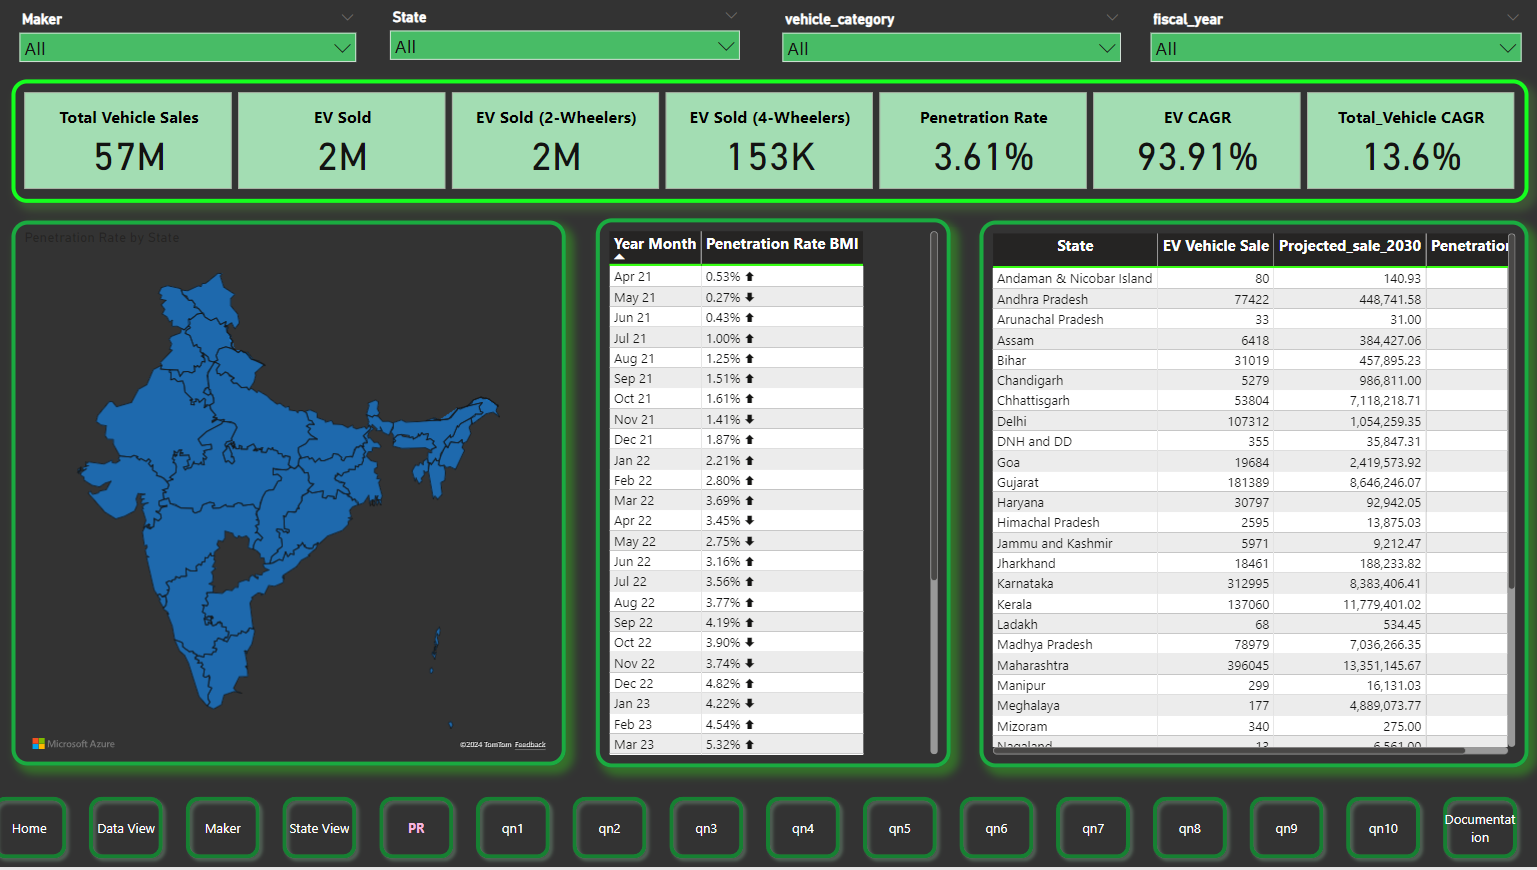

Layout of this report page (visuals, bound fields, positions):
{"tool":"powerbi","page":{"name":"PR","canvas":[1920,1080],"ordinal":4},"visuals":[{"type":"cardVisual","fields":{"Data":["KeyMeasures.Total Vehicle Sales","KeyMeasures.EV_vehicle_sold_state","KeyMeasures.EV_sold for 2-Wheelers(State)","KeyMeasures.EV_sold for 4-Wheelers(State)","KeyMeasures.Penetration Rate","KeyMeasures.CAGR_state_All","KeyMeasures.CAGR_state_Total_Vehicle"]},"box":[32.6,111.2,1866.6,151.9],"z":0},{"type":"slicer","fields":{"Values":["dim_date.fiscal_year"]},"box":[1423,21.5,476.4,83],"z":1000},{"type":"slicer","fields":{"Values":["dim_vechicle.vehicle_category"]},"box":[971.2,21.5,436.4,83],"z":2000},{"type":"slicer","fields":{"Values":["dim_makers.Maker"]},"box":[32.6,21.7,434.1,84.1],"z":9000},{"type":"slicer","fields":{"Values":["dim_state.State"]},"box":[488.4,19,450.4,84.1],"z":10000},{"type":"azureMap","fields":{"Category":["dim_state.State"]},"box":[31.4,285.4,682.1,670.6],"z":11000},{"type":"tableEx","fields":{"Values":["dim_date.Year Month","KeyMeasures.Penetration Rate BMI"]},"box":[751.5,282.2,436.8,675.6],"z":12000},{"type":"tableEx","fields":{"Values":["dim_state.State","KeyMeasures.EV_vehicle_sold_state","KeyMeasures.Projected_sale_2030","KeyMeasures.Penetration Rate"]},"box":[1223.6,284.9,675.6,672.8],"z":13000},{"type":"pageNavigator","box":[0,984.8,1899.1,95],"z":14001}]}

Visuals, with their boxes on the page's 1920x1080 design canvas (x1, y1, x2, y2). These are canvas units, not pixel positions in the 1537x870 screenshot, which may show the page scaled, cropped or inside an application window:
cardVisual - KeyMeasures.Total Vehicle Sales x KeyMeasures.EV_vehicle_sold_state: rect(33, 111, 1899, 263)
slicer - dim_date.fiscal_year: rect(1423, 22, 1899, 104)
slicer - dim_vechicle.vehicle_category: rect(971, 22, 1408, 104)
slicer - dim_makers.Maker: rect(33, 22, 467, 106)
slicer - dim_state.State: rect(488, 19, 939, 103)
azureMap - dim_state.State: rect(31, 285, 714, 956)
tableEx - dim_date.Year Month x KeyMeasures.Penetration Rate BMI: rect(752, 282, 1188, 958)
tableEx - dim_state.State x KeyMeasures.EV_vehicle_sold_state: rect(1224, 285, 1899, 958)
pageNavigator: rect(0, 985, 1899, 1080)
